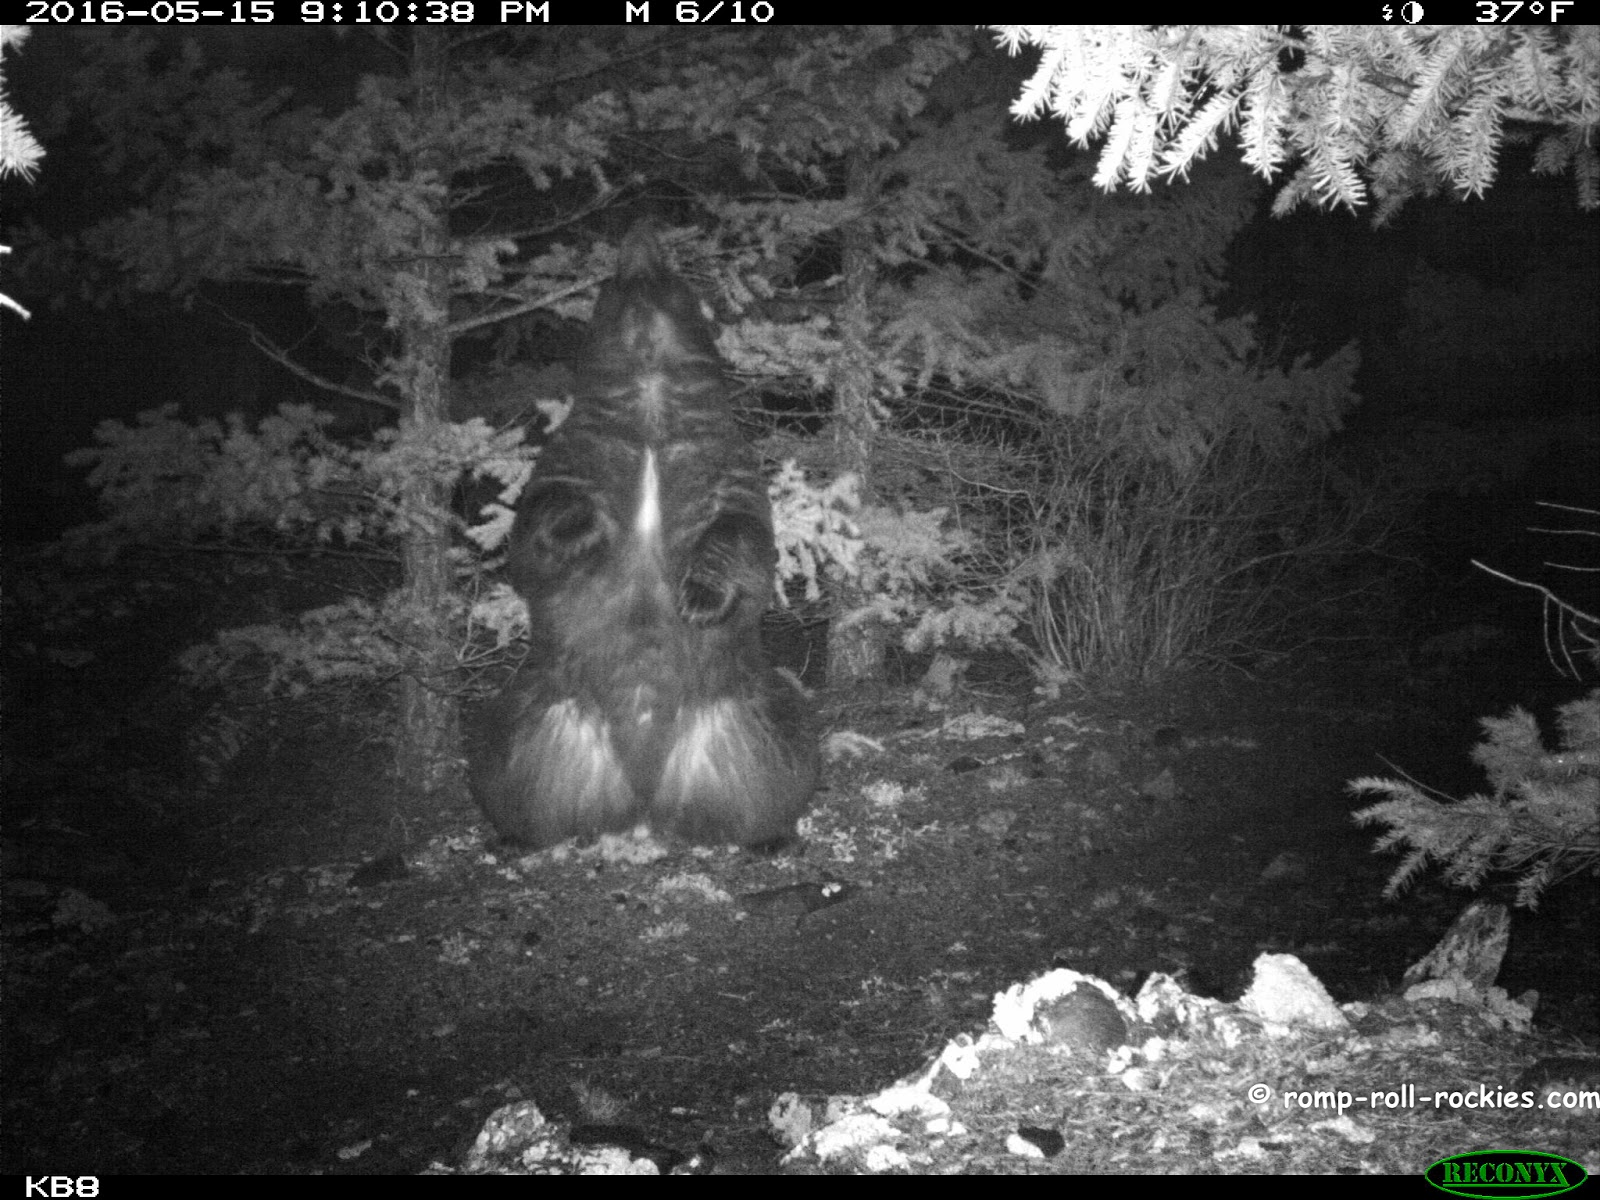bear: (485, 164, 853, 913)
